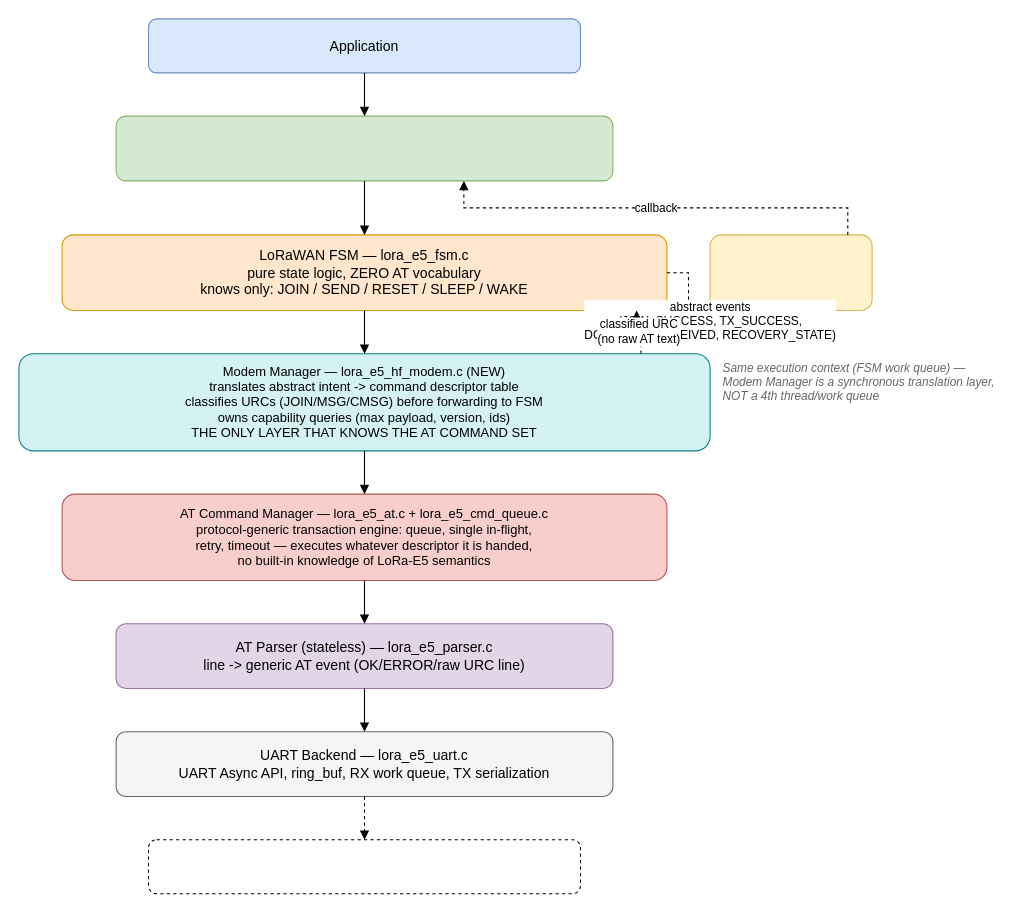
This 1014x913 diagram has some shape labels left out. Each missing label, with the centre of its shape:
Event Bus lora_e5_events.c: [790,272]
LoRa-E5-HF Module (UART, AT firmware): [363,866]
Public API — lora_e5.c / lora_e5.h join()/send()/reset()/sleep()/wake()/at_raw(): [364,148]
